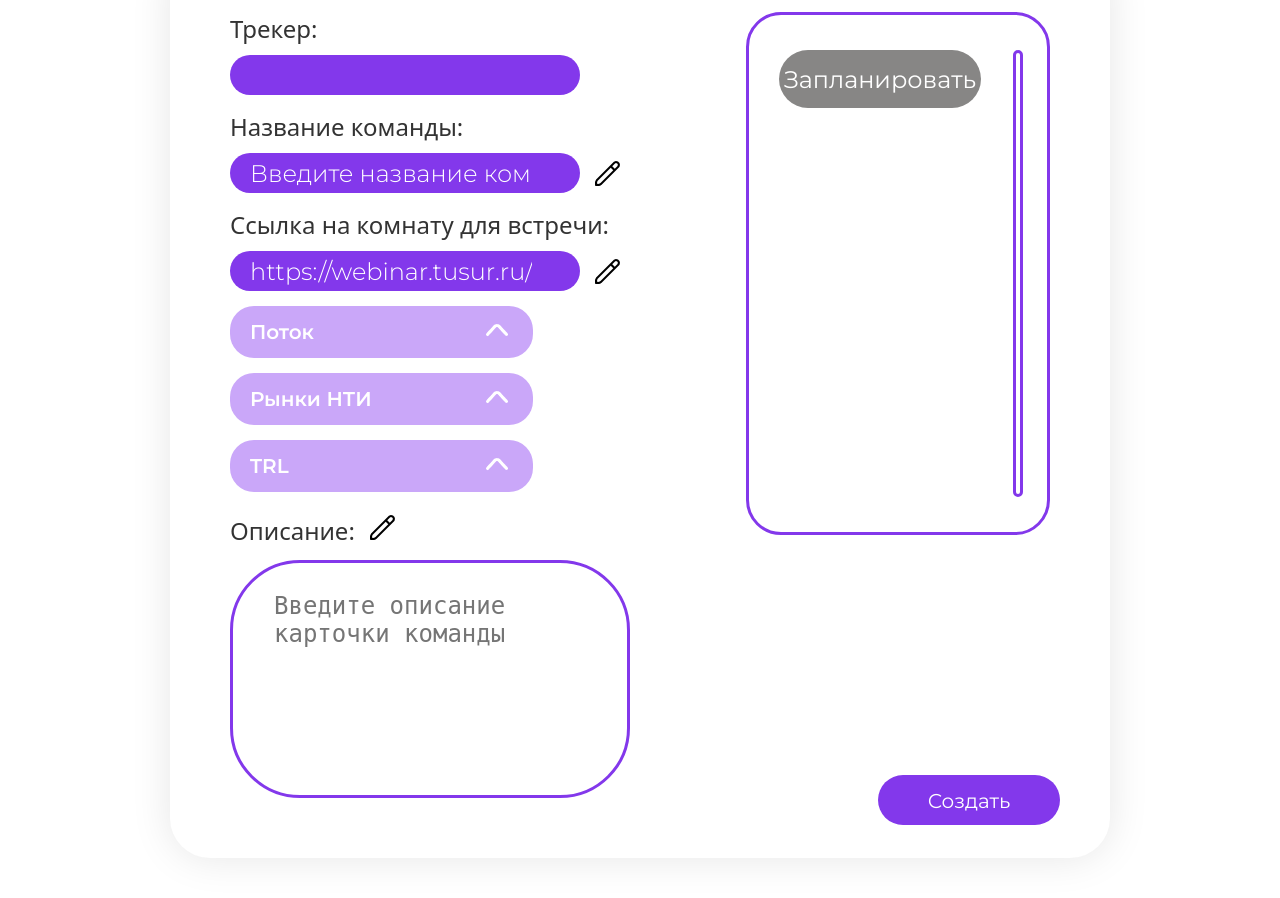
Test case: TeamCard — создание карточки команды › показывает ошибку, если поля не заполнены
The width and height of the screenshot is (1280, 898).
(page scrolled)
Click the button "Создать" at (969, 800), box [878,775,1060,825]
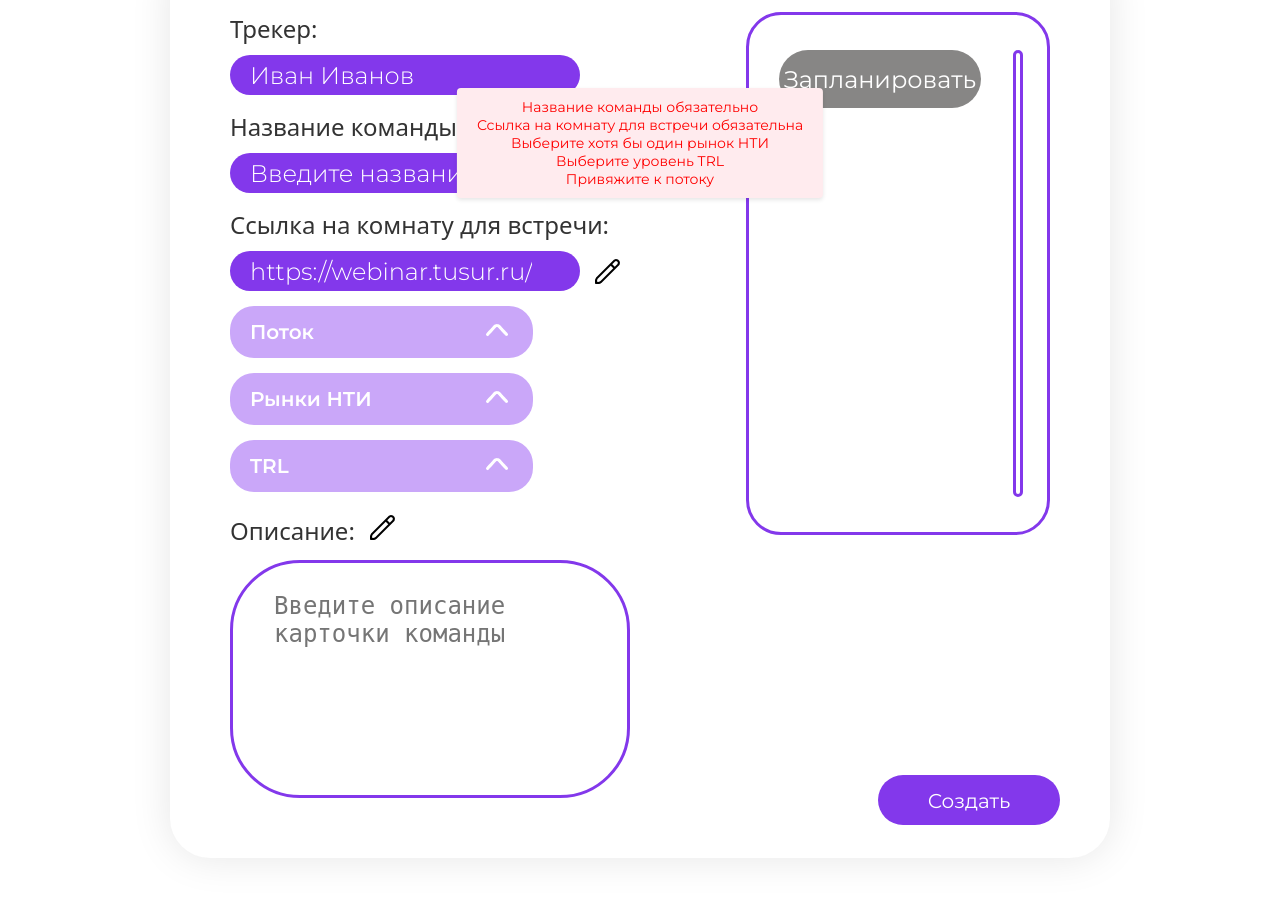
Expected: the button "Название команды обязательно" is shown, [457,88,823,198]
